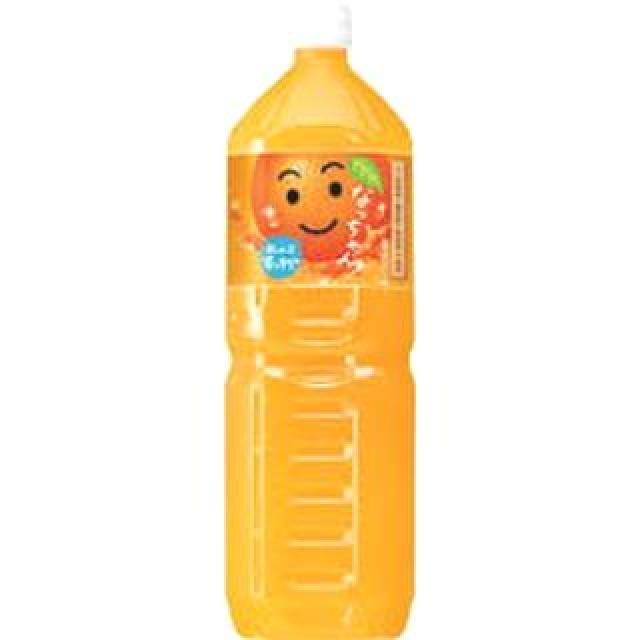Pet_Bottle: (214, 0, 426, 640)
